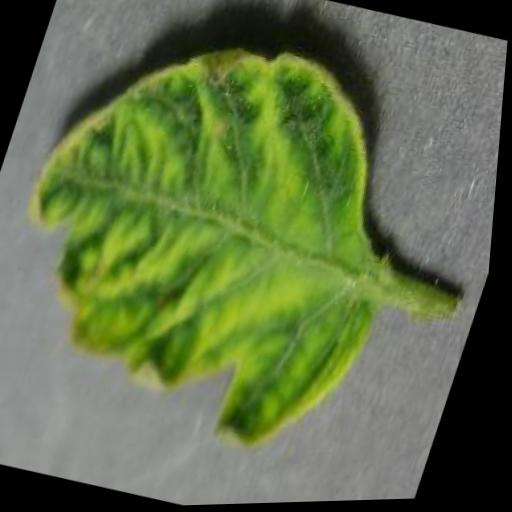Yellow Leaf Curl Virus: (0, 0, 452, 475)
